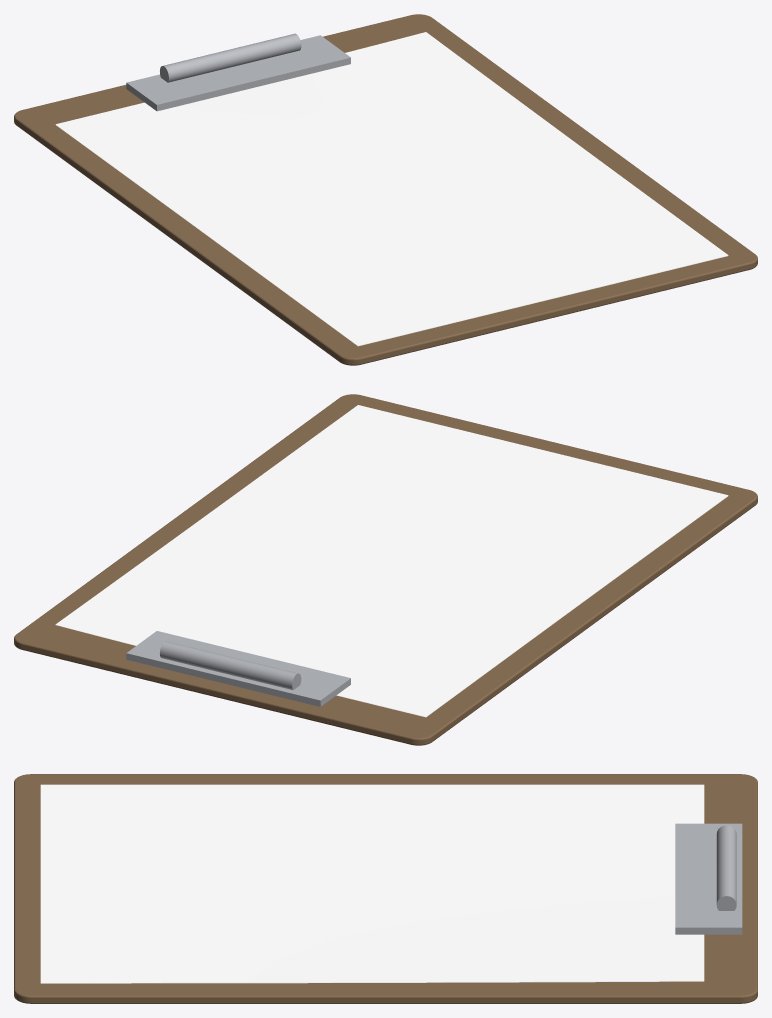
File: clipboard-a4.glb
The picture shows the model from 3 angles, top to bottom: view 1: azimuth 30°, elevation 25°; view 2: azimuth 150°, elevation 25°; view 3: azimuth 270°, elevation 25°; orthographic projection. The views are drawn at different scales.
Parts seen in each view (by area): view 1: page, board, clip_base, clip_bar, page_paper; view 2: page, board, clip_base, clip_bar; view 3: page, board, clip_base, clip_bar, page_paper.
Boxes of the visible parts, x1,y1,x2,y2 form: page: (56,32,728,345); board: (14,14,757,365); clip_base: (126,35,350,111); clip_bar: (160,33,301,82); page_paper: (56,125,728,346); page: (55,405,728,716); board: (14,394,757,745); clip_base: (126,631,350,706); clip_bar: (159,641,301,690); page: (40,784,704,982); board: (14,774,757,1003); clip_base: (675,823,742,934); clip_bar: (716,825,736,910); page_paper: (40,981,704,983).
Bounding box in the file's own units: 0.236 × 0.016 × 0.333.
